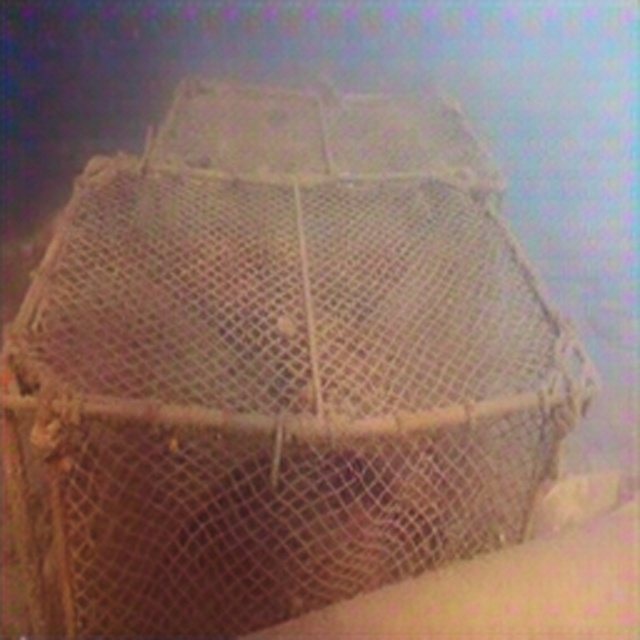mine: (0, 155, 601, 640), (141, 73, 509, 229)
